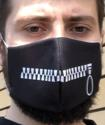with_mask: (2, 2, 105, 125)
